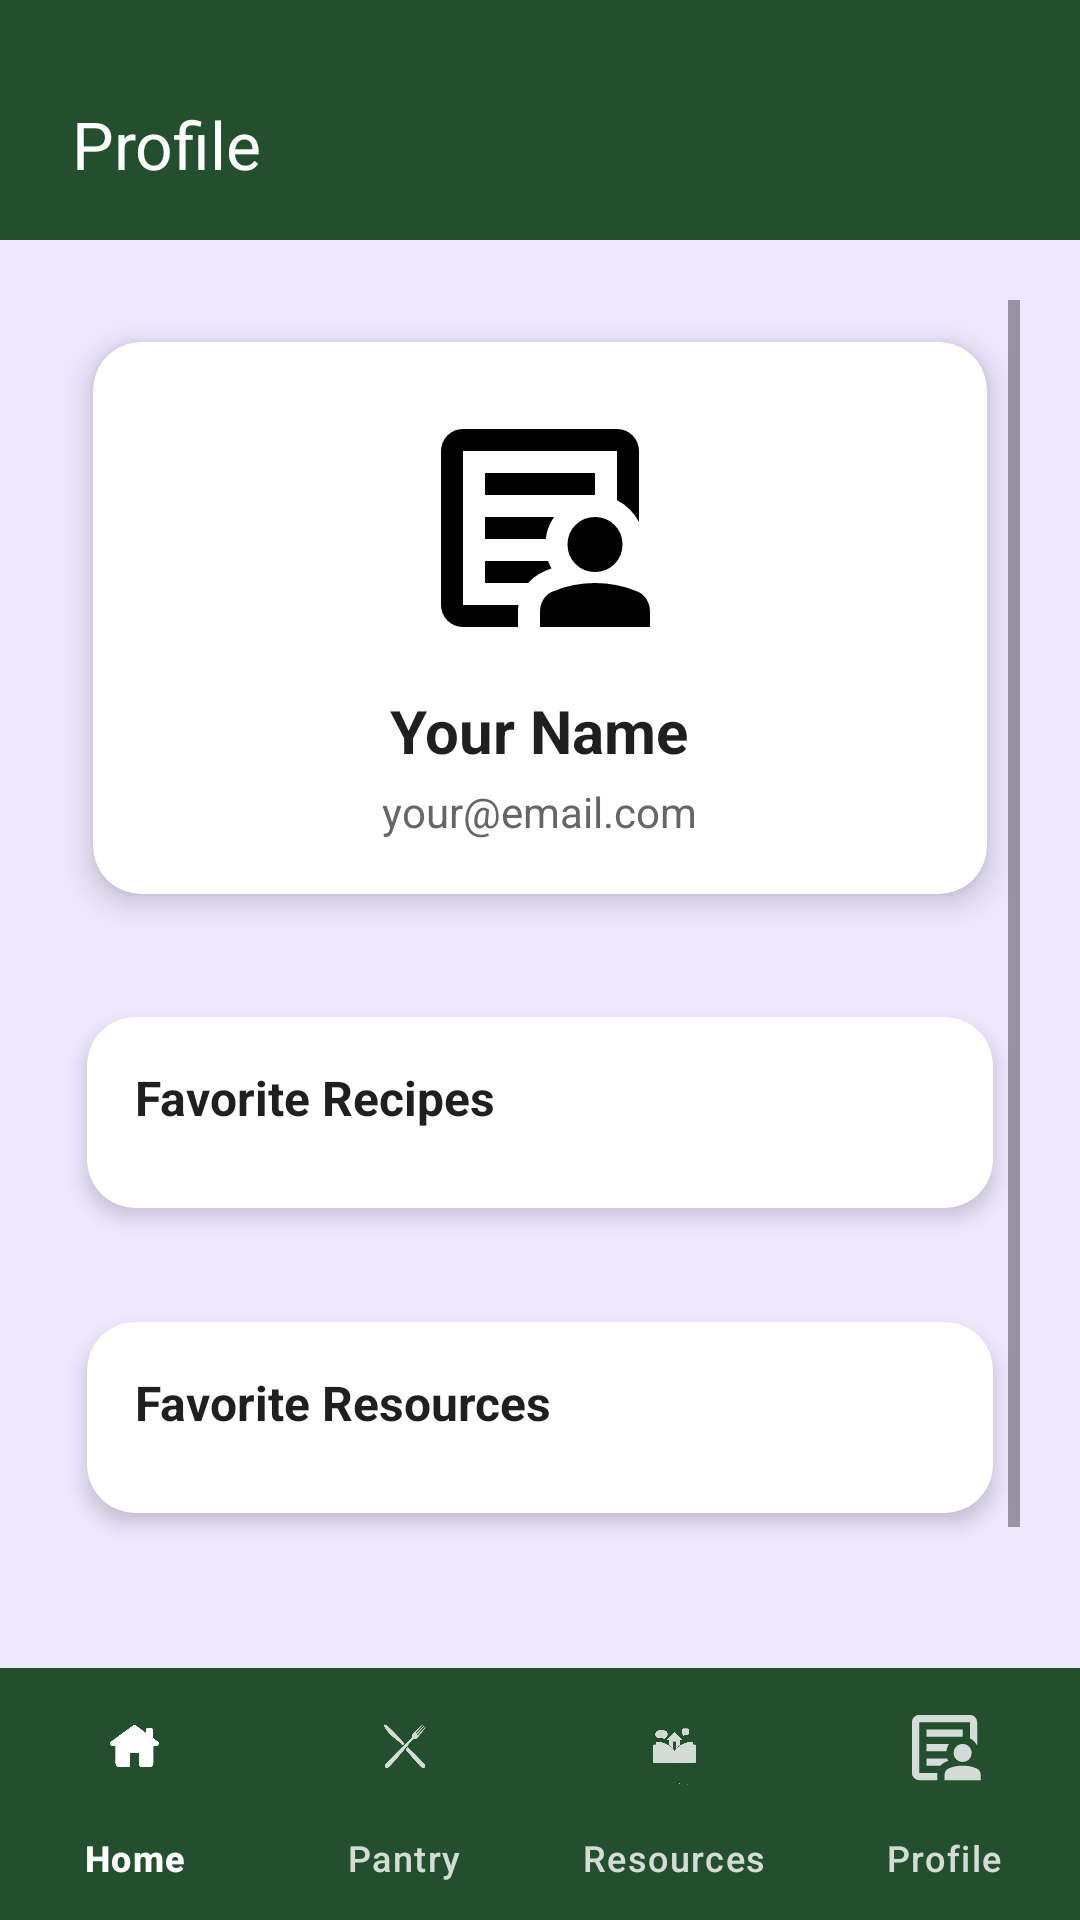

Icons on this 1080x1920 Android screen, each with the point to tap as point (x, y):
Profile icon: point (545, 528)
